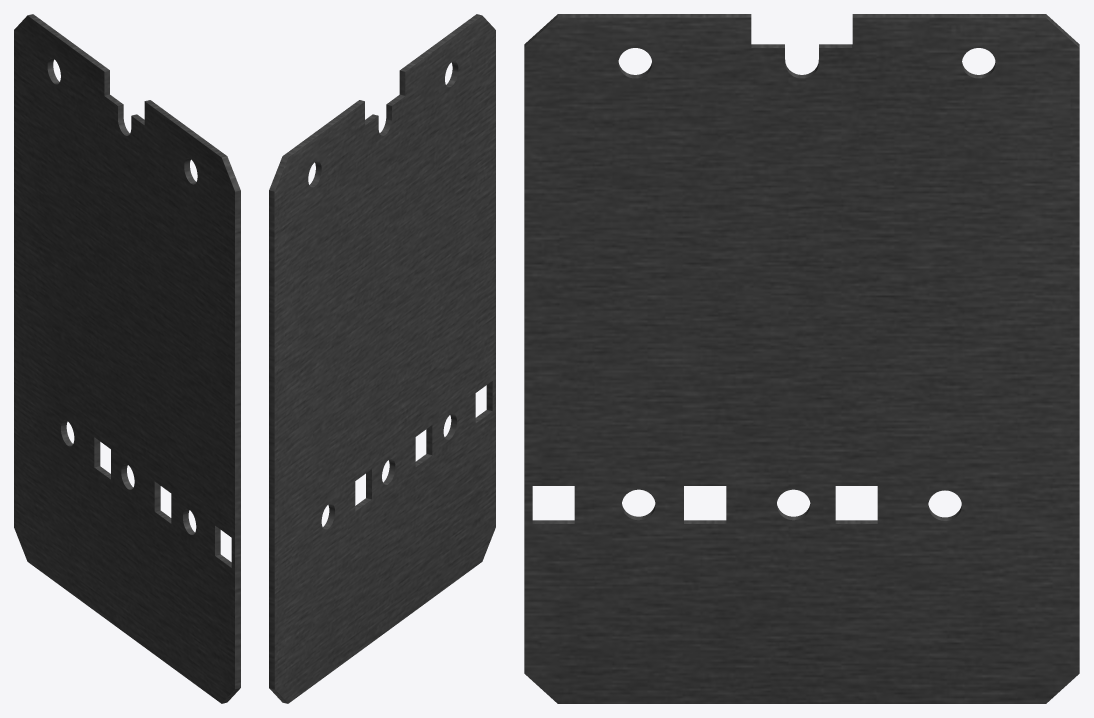
The model's file is stena.obj.
3 renders of one model, left to right at view 1: azimuth 30°, elevation 25°; view 2: azimuth 150°, elevation 25°; view 3: azimuth 270°, elevation 25°, orthographic. The views are drawn at different scales.
Parts seen in each view (by area): view 1: stojan.001_Cube.016; view 2: stojan.001_Cube.016; view 3: stojan.001_Cube.016.
Part boxes in pixels (left/top/right/bottom): stojan.001_Cube.016: left=14, top=14, right=240, bottom=703; stojan.001_Cube.016: left=269, top=14, right=495, bottom=703; stojan.001_Cube.016: left=524, top=14, right=1079, bottom=703.
Size of the model in its own units: 0.05 by 4.5 by 3.3.
